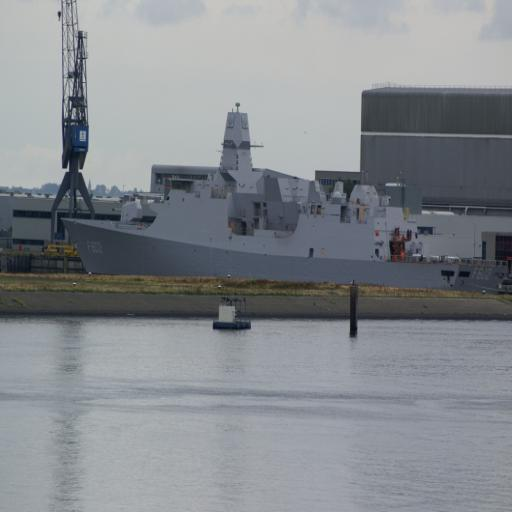Fragata: (59, 116, 505, 286)
